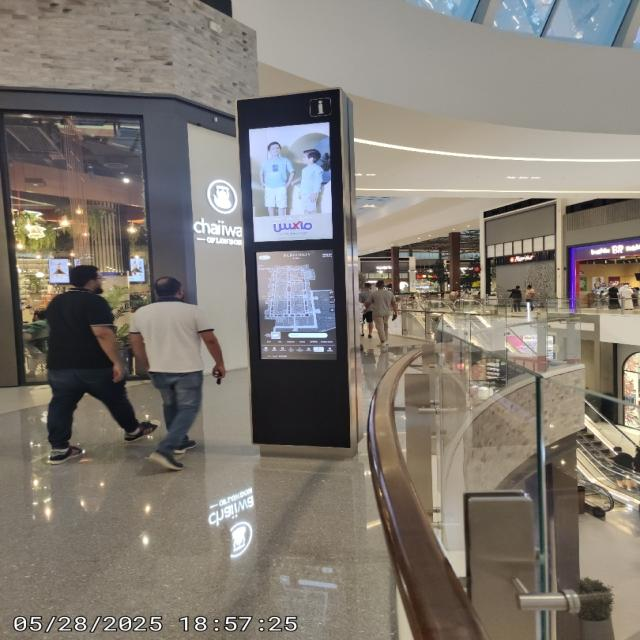mupi: (237, 86, 351, 446)
